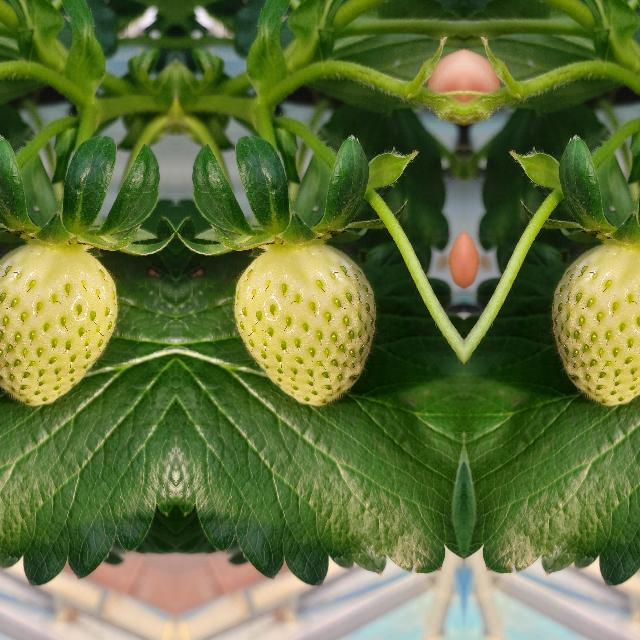Health_25: (231, 242, 377, 406), (0, 242, 119, 406), (549, 242, 640, 406)
